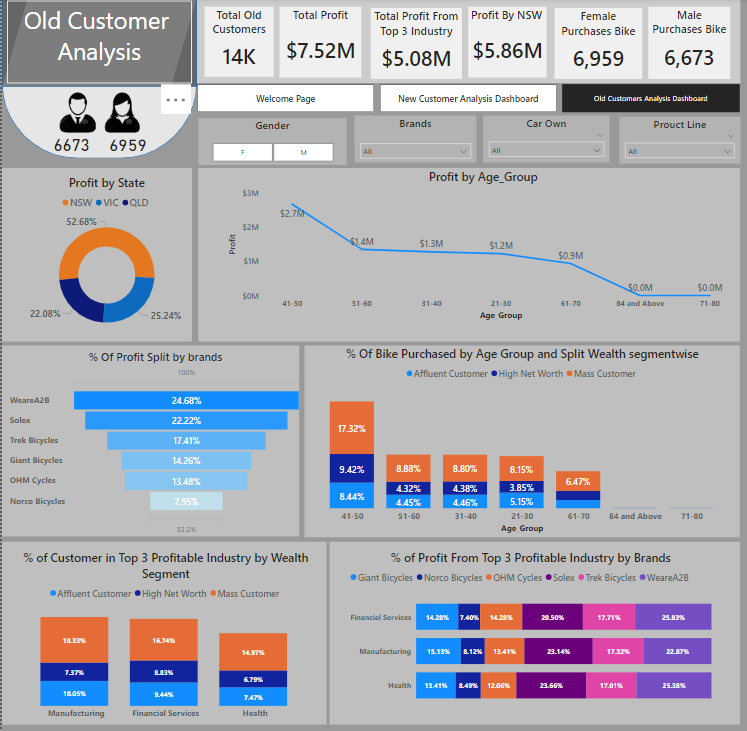

The dashboard page shown, as its layout file describes it:
{"tool":"powerbi","page":{"name":"Old Customers Analysis Dashboard","canvas":[1350,1330],"ordinal":2},"visuals":[{"type":"shape","box":[0,0,1333.3,153.3],"z":0},{"type":"card","title":"Total Old Customers","fields":{"Values":["CountNonNull(Transactions.customer_id)"]},"box":[365,16.7,125,126.7],"z":1000},{"type":"card","title":"Total Profit","fields":{"Values":["Sum(Transactions.Profit)"]},"box":[501.7,16.7,148.3,128.3],"z":2000},{"type":"card","title":"Female Purchases Bike","fields":{"Values":["CountNonNull(Transactions.CustomerDemographic.past_3_years_bike_related_purchases)"]},"box":[998.3,18.3,158.3,128.3],"z":3000},{"type":"card","title":"Profit By NSW","fields":{"Values":["Sum(Transactions.Profit)"]},"box":[841.7,16.7,141.7,128.3],"z":4000},{"type":"card","title":"Total Profit From Top 3 Industry","fields":{"Values":["Sum(Transactions.Profit)"]},"box":[666.7,18.3,165,128.3],"z":5000},{"type":"card","title":"Male Purchases Bike","fields":{"Values":["CountNonNull(Transactions.CustomerDemographic.past_3_years_bike_related_purchases)"]},"box":[1168.3,15,148.3,130],"z":6000},{"type":"shape","box":[0,16.7,351.7,273.3],"z":7000},{"type":"shape","box":[0,0,351.7,160],"z":8000},{"type":"shape","box":[0,0,351.7,160],"z":9000},{"type":"image","box":[50,115,253.3,195],"z":10000},{"type":"card","fields":{"Values":["CountNonNull(Transactions.customer_id)"]},"box":[176.7,216.7,101.7,93.3],"z":11000},{"type":"card","fields":{"Values":["CountNonNull(Transactions.customer_id)"]},"box":[75,221.7,101.7,85],"z":12000},{"type":"shape","box":[0,306.7,343.3,313.3],"z":13000},{"type":"shape","box":[546.7,626.7,786.7,346.7],"z":14000},{"type":"shape","box":[0,628.3,536.7,345],"z":15000},{"type":"shape","box":[355,306.7,978.3,313.3],"z":16000},{"type":"shape","box":[591.7,981.7,741.7,330],"z":17000},{"type":"shape","box":[0,981.7,586.7,330],"z":18000},{"type":"donutChart","title":"Profit by State","fields":{"Category":["Transactions.CustomerAddress.state"],"Y":["Sum(Transactions.Profit)"]},"box":[0,318.3,378.3,301.7],"z":19000},{"type":"lineChart","title":" Profit by Age_Group","fields":{"Category":["Transactions.Age_Group"],"Y":["Sum(Transactions.Profit)"]},"box":[405,306.7,930,280],"z":20000},{"type":"textbox","box":[10,5,333.3,148.3],"z":21000},{"type":"funnel","title":"% Of Profit Split by brands","fields":{"Y":["Sum(Transactions.Profit)"],"Category":["Transactions.brand"]},"box":[10,635,536.7,340],"z":22000},{"type":"hundredPercentStackedBarChart","title":"% of Profit From Top 3 Profitable Industry by Brands","fields":{"Category":["Transactions.CustomerDemographic.job_industry_category"],"Series":["Transactions.brand"],"Y":["Sum(Transactions.Profit)"]},"box":[623.3,995,663.3,301.7],"z":23000},{"type":"columnChart","title":"% of Customer in Top 3 Profitable Industry by Wealth Segment","fields":{"Category":["Transactions.CustomerDemographic.job_industry_category"],"Y":["Sum(Transactions.CustomerDemographic.past_3_years_bike_related_purchases)"],"Series":["Transactions.CustomerDemographic.wealth_segment"]},"box":[0,995,591.7,316.7],"z":24000},{"type":"columnChart","title":"% Of Bike Purchased by Age Group and Split Wealth segmentwise","fields":{"Category":["Transactions.Age_Group"],"Y":["Sum(Transactions.CustomerDemographic.past_3_years_bike_related_purchases)"],"Series":["Transactions.CustomerDemographic.wealth_segment"]},"box":[546.7,628.3,786.7,345],"z":25000},{"type":"slicer","title":"Gender","fields":{"Values":["Transactions.CustomerDemographic.gender"]},"box":[355,216.7,268.3,85],"z":26000},{"type":"slicer","title":"Brands","fields":{"Values":["Transactions.brand"]},"box":[636.7,213.3,220,85],"z":27000},{"type":"slicer","title":"Car Own","fields":{"Values":["Transactions.CustomerDemographic.owns_car"]},"box":[870,213.3,228.3,85],"z":28000},{"type":"slicer","title":"Prouct Line","fields":{"Values":["Transactions.product_line"]},"box":[1115,215,218.3,85],"z":29000},{"type":"pageNavigator","box":[351.7,156.7,981.7,50],"z":30000}]}

Visuals, with their boxes in screenshot pixels (x1, y1, x2, y2), scaled from the page's 1350x1330 canvas onto the 747x731 screenshot:
shape: select_region(0, 0, 738, 84)
"Total Old Customers" card: select_region(202, 9, 271, 79)
"Total Profit" card: select_region(278, 9, 360, 80)
"Female Purchases Bike" card: select_region(552, 10, 640, 81)
"Profit By NSW" card: select_region(466, 9, 544, 80)
"Total Profit From Top 3 Industry" card: select_region(369, 10, 460, 81)
"Male Purchases Bike" card: select_region(646, 8, 729, 80)
shape: select_region(0, 9, 195, 159)
shape: select_region(0, 0, 195, 88)
shape: select_region(0, 0, 195, 88)
image: select_region(28, 63, 168, 170)
card - CountNonNull(Transactions.customer_id): select_region(98, 119, 154, 170)
card - CountNonNull(Transactions.customer_id): select_region(42, 122, 98, 169)
shape: select_region(0, 169, 190, 341)
shape: select_region(303, 344, 738, 535)
shape: select_region(0, 345, 297, 535)
shape: select_region(196, 169, 738, 341)
shape: select_region(327, 540, 738, 721)
shape: select_region(0, 540, 325, 721)
"Profit by State" donutChart: select_region(0, 175, 209, 341)
" Profit by Age_Group" lineChart: select_region(224, 169, 739, 322)
textbox: select_region(6, 3, 190, 84)
"% Of Profit Split by brands" funnel: select_region(6, 349, 303, 536)
"% of Profit From Top 3 Profitable Industry by Brands" hundredPercentStackedBarChart: select_region(345, 547, 712, 713)
"% of Customer in Top 3 Profitable Industry by Wealth Segment" columnChart: select_region(0, 547, 327, 721)
"% Of Bike Purchased by Age Group and Split Wealth segmentwise" columnChart: select_region(303, 345, 738, 535)
"Gender" slicer: select_region(196, 119, 345, 166)
"Brands" slicer: select_region(352, 117, 474, 164)
"Car Own" slicer: select_region(481, 117, 608, 164)
"Prouct Line" slicer: select_region(617, 118, 738, 165)
pageNavigator: select_region(195, 86, 738, 114)
